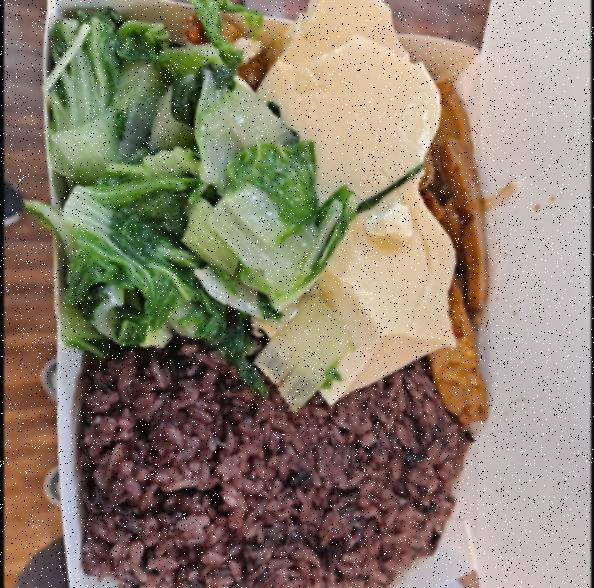box: (27, 0, 508, 588)
purple rice: (66, 331, 466, 588)
side dish: (42, 0, 351, 377), (262, 1, 456, 408), (417, 60, 494, 417)
